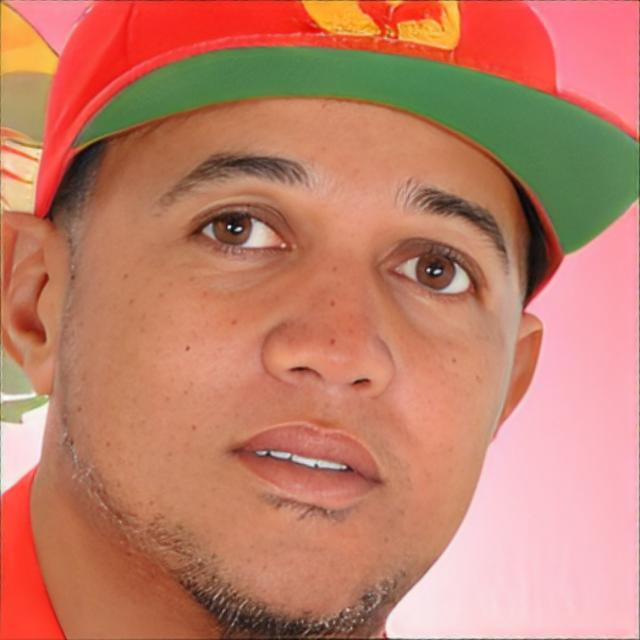neutral: (58, 100, 526, 633)
